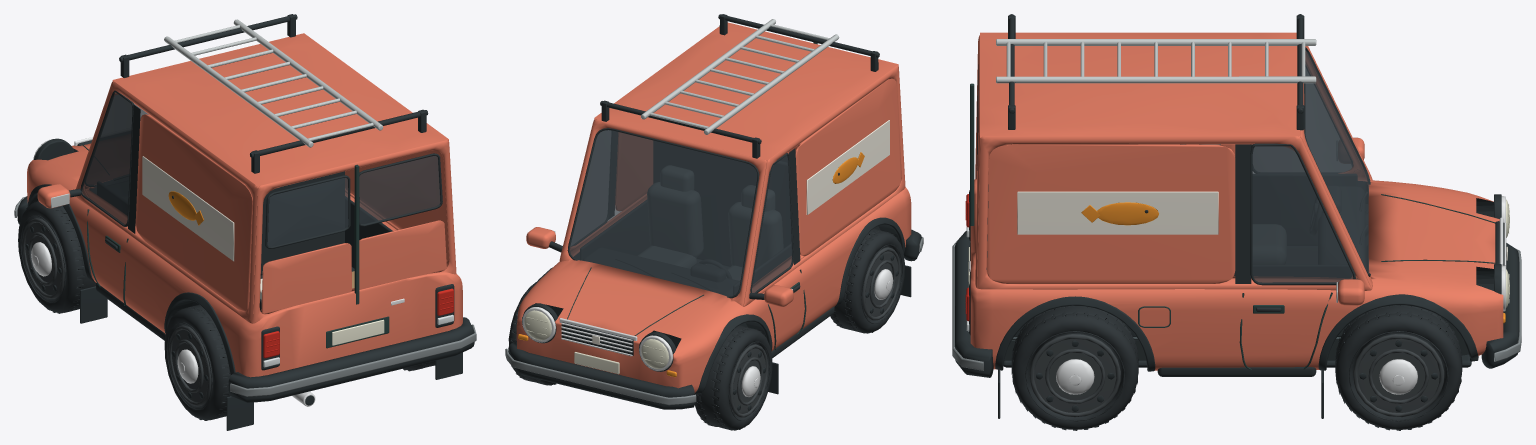
Rendered from kipper_lod1.fbx.
3 views of the same model, side by side, from view 1: azimuth 30°, elevation 25°; view 2: azimuth 150°, elevation 25°; view 3: azimuth 270°, elevation 25° (orthographic). The views are drawn at different scales.
Parts seen in each view (by area): view 1: Body, Wheel_FL_Mesh, Wheel_RL_Mesh; view 2: Body, Wheel_FL_Mesh, Wheel_RL_Mesh, Wheel_FR_Mesh; view 3: Body, Wheel_FR_Mesh, Wheel_RR_Mesh.
Part boxes in pixels (<box>): Body: <box>14,14,476,430</box>; Wheel_FL_Mesh: <box>18,201,95,313</box>; Wheel_RL_Mesh: <box>164,304,230,420</box>; Body: <box>505,14,923,409</box>; Wheel_FL_Mesh: <box>694,325,772,430</box>; Wheel_RL_Mesh: <box>830,228,904,333</box>; Wheel_FR_Mesh: <box>508,282,556,385</box>; Body: <box>952,14,1521,418</box>; Wheel_FR_Mesh: <box>1335,305,1462,430</box>; Wheel_RR_Mesh: <box>1011,305,1138,430</box>.
Size of the model in its own units: 231 by 216 by 359.
